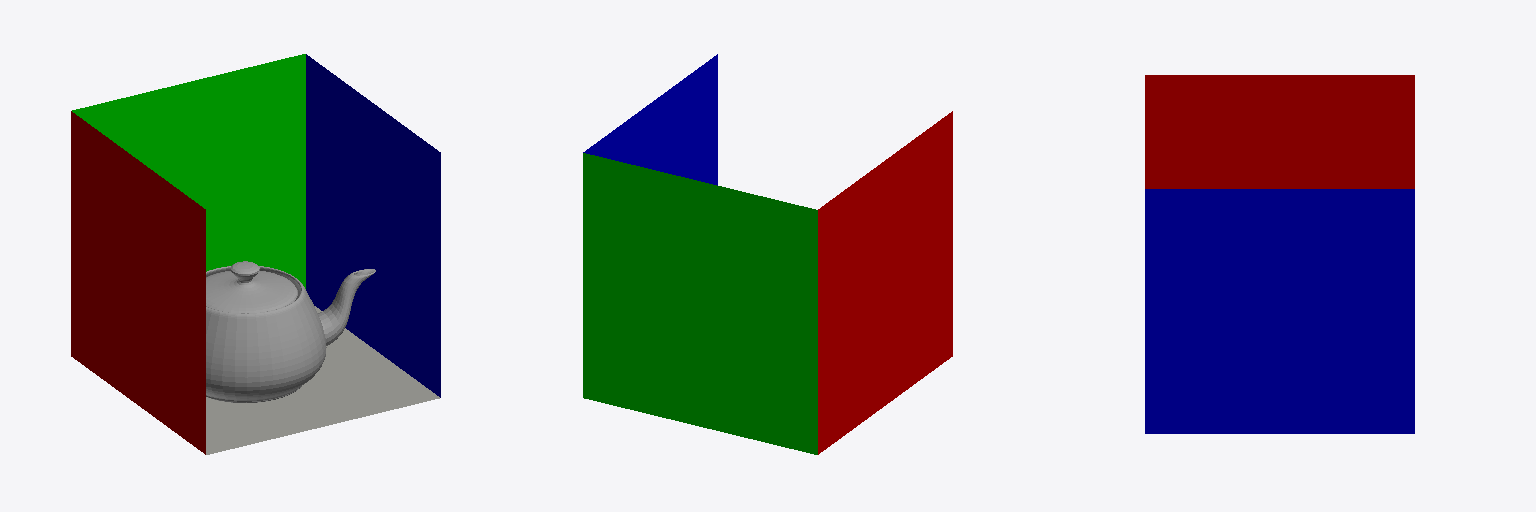
Rendered from CornellBox-Teapot.obj.
3 renders of one model, left to right at view 1: azimuth 30°, elevation 25°; view 2: azimuth 150°, elevation 25°; view 3: azimuth 270°, elevation 25°, orthographic.
Visible parts, largest first — view 1: Enclosure_Cube.001, Teapot_teapot; view 2: Enclosure_Cube.001; view 3: Enclosure_Cube.001.
Boxes of the visible parts, x1=… form: Enclosure_Cube.001: x1=71, y1=54, x2=440, y2=454; Teapot_teapot: x1=206, y1=261, x2=375, y2=402; Enclosure_Cube.001: x1=583, y1=54, x2=952, y2=454; Enclosure_Cube.001: x1=1145, y1=75, x2=1414, y2=433.
Bounding box in the file's own units: 2 × 2.02 × 2.